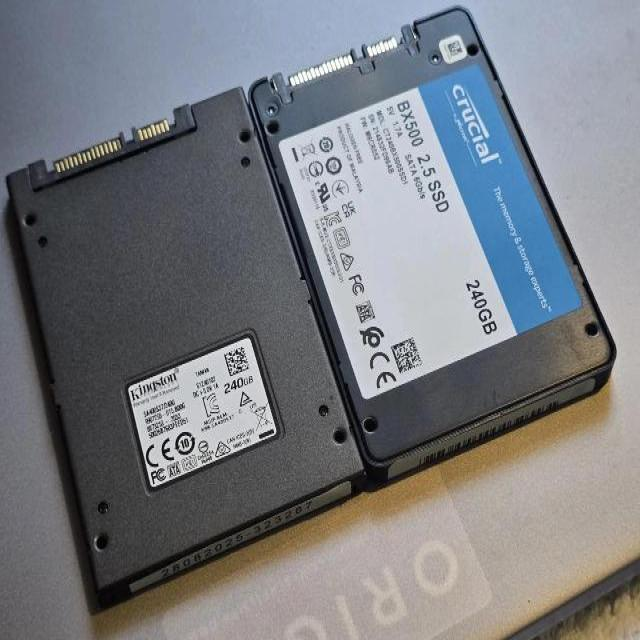DISK: (3, 84, 370, 619), (245, 4, 620, 495)
